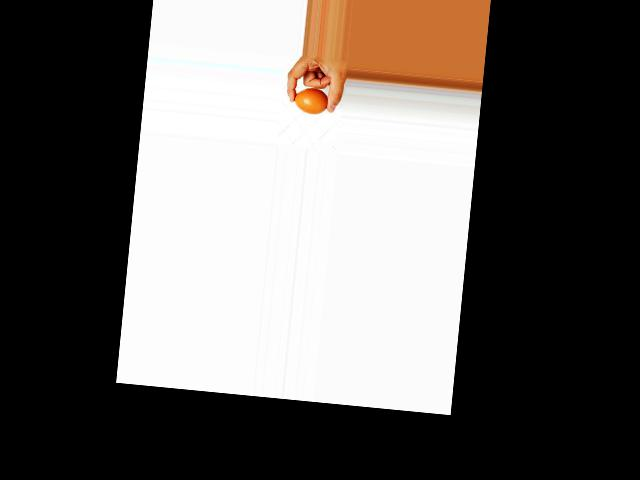egg: (292, 86, 329, 116)
